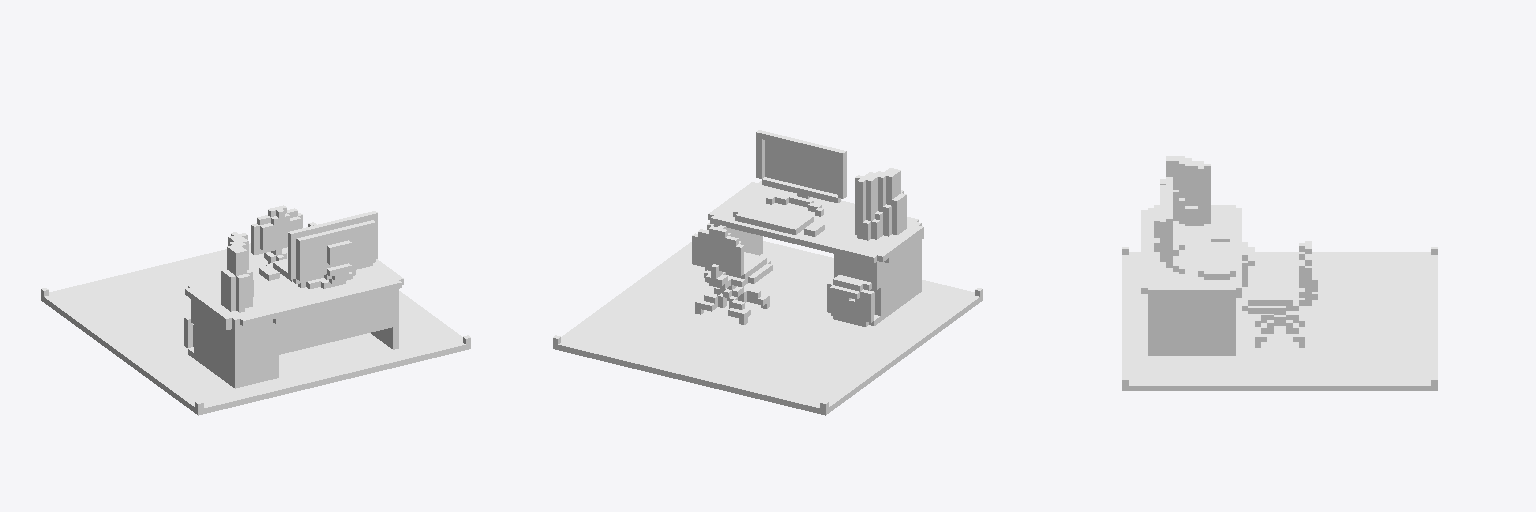
File: working_space.obj
3 views of the same model, side by side, from view 1: azimuth 30°, elevation 25°; view 2: azimuth 150°, elevation 25°; view 3: azimuth 270°, elevation 25° (orthographic).
Visible parts, largest first — view 1: object 1; view 2: object 1; view 3: object 1.
Part boxes in pixels (x1,y1,x2,y2): object 1: (41,205,470,415); object 1: (553,130,982,415); object 1: (1122,156,1437,390).
Bounding box in the file's own units: 5 × 2.4 × 5.